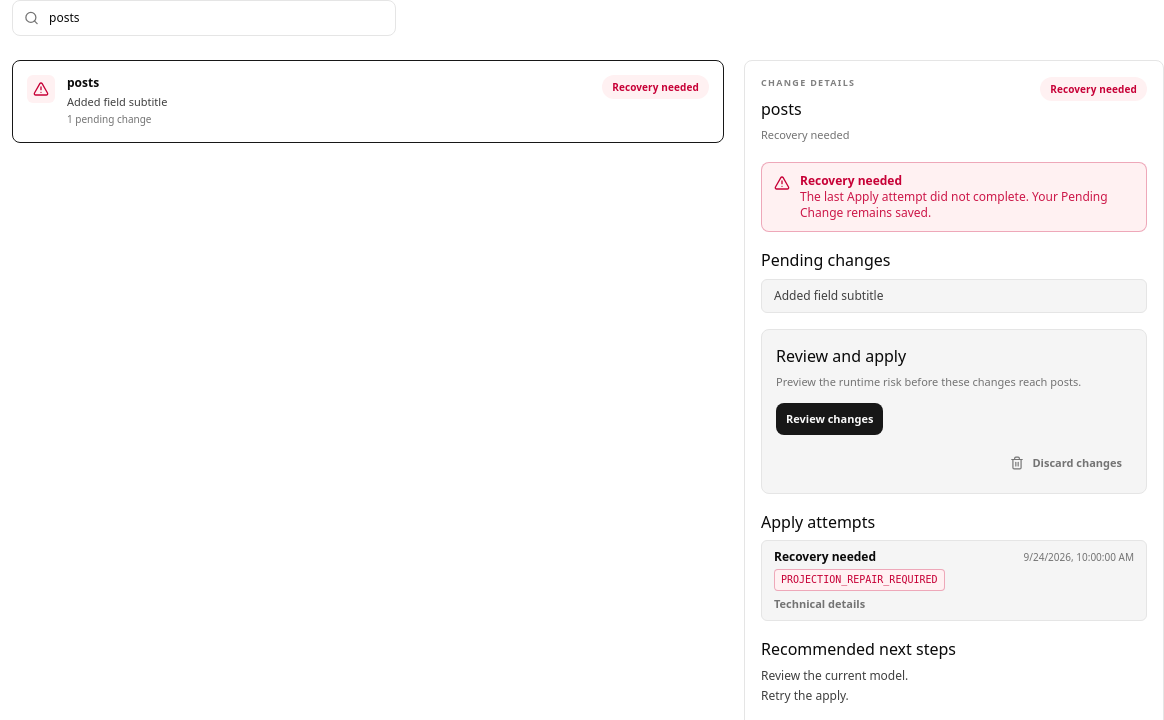
Changes page › restores a recovery deep link and keeps the selected Collection actionable
Check: the heading "posts" is shown, box 761,98 -> 802,120
Check: the search field named "Search changes" holds "posts", box 12,0 -> 396,36
Click the button "Technical details".
click(820, 604)  # box 774,595 -> 865,612
(page scrolled)
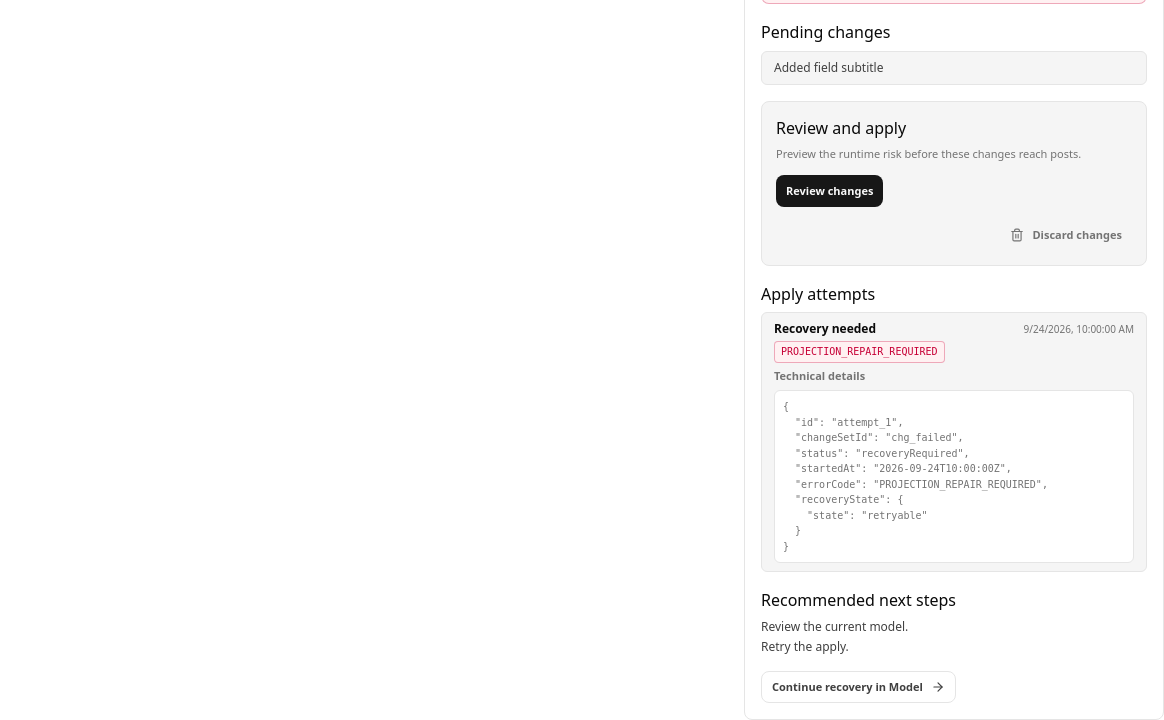
Check: the text "Technical details" shows "attempt_1", box 783,401 -> 1048,552
Check: the text "Technical details" shows "PROJECTION_REPAIR_REQUIRED", box 783,401 -> 1048,552
Check: the text "Technical details" shows "2026-09-24T10:00:00Z", box 783,401 -> 1048,552
